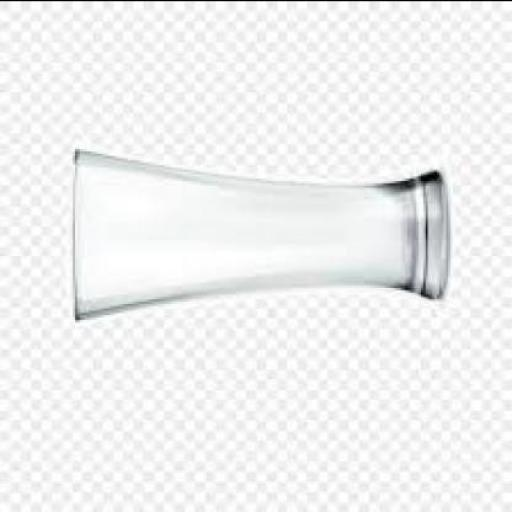glass: (70, 150, 442, 325)
